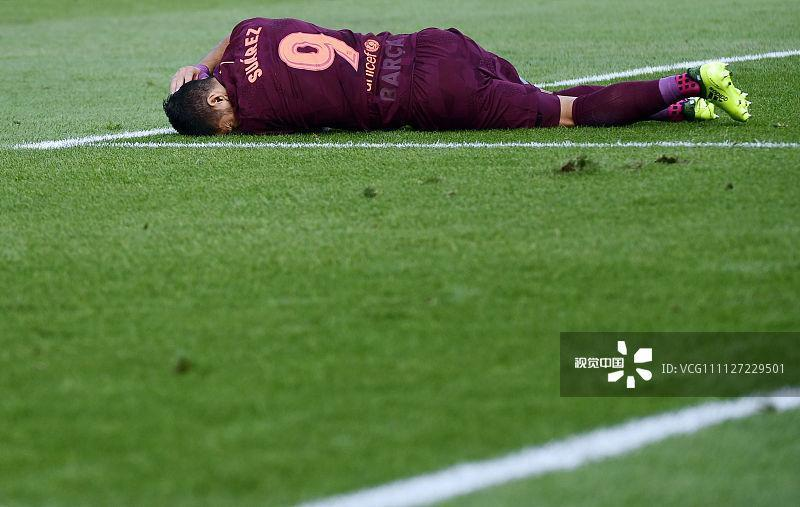Fall-Detected: (162, 7, 744, 140)
